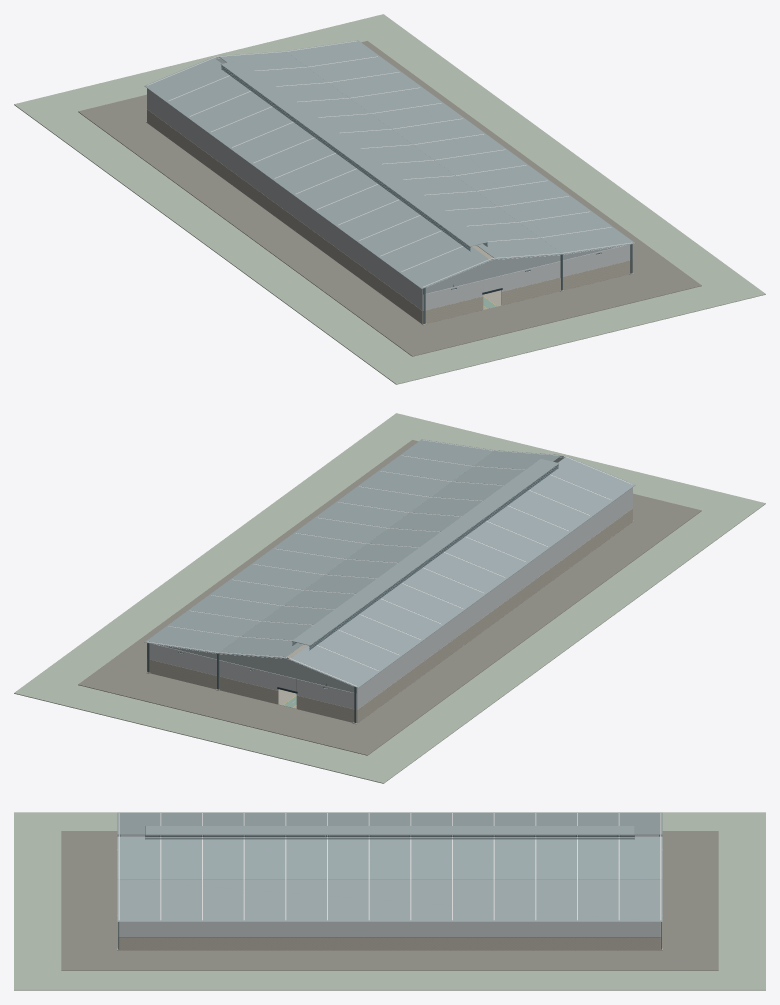
Rendered from factory-production.glb.
The picture shows the model from 3 angles, top to bottom: view 1: azimuth 30°, elevation 25°; view 2: azimuth 150°, elevation 25°; view 3: azimuth 270°, elevation 25°; orthographic projection.
Parts seen in each view (by area): view 1: M00_0000, M00_0001, M07_0271, M07_0273, M07_0272, M08_0004, M07_0297, M08_0003, M08_0016, M08_0296, M08_0015, M08_0014 (+1 smaller); view 2: M00_0000, M00_0001, M07_0271, M07_0273, M07_0272, M08_0004, M07_0297, M08_0003, M08_0010, M08_0295, M08_0009, M08_0008 (+1 smaller); view 3: M00_0000, M00_0001, M07_0272, M07_0273, M08_0006, M07_0271, M08_0005, M07_0297, M08_0004, M05_0308, M05_0304, M05_0305 (+3 smaller).
Boxes of the visible parts, bbox=[...] form: M00_0000: bbox=[14, 14, 765, 384]; M00_0001: bbox=[78, 41, 701, 356]; M07_0271: bbox=[144, 57, 490, 288]; M07_0273: bbox=[285, 40, 635, 254]; M07_0272: bbox=[218, 51, 562, 259]; M08_0004: bbox=[147, 88, 423, 310]; M07_0297: bbox=[221, 60, 487, 246]; M08_0003: bbox=[147, 109, 422, 323]; M08_0016: bbox=[501, 244, 630, 291]; M08_0296: bbox=[423, 246, 619, 293]; M08_0015: bbox=[501, 260, 630, 305]; M08_0014: bbox=[423, 280, 483, 310]; M00_0000: bbox=[14, 413, 765, 783]; M00_0001: bbox=[78, 440, 701, 755]; M07_0271: bbox=[289, 456, 635, 687]; M07_0273: bbox=[144, 439, 494, 653]; M07_0272: bbox=[217, 450, 561, 658]; M08_0004: bbox=[356, 487, 632, 709]; M07_0297: bbox=[292, 459, 558, 645]; M08_0003: bbox=[357, 508, 632, 722]; M08_0010: bbox=[149, 643, 278, 690]; M08_0295: bbox=[160, 645, 354, 692]; M08_0009: bbox=[149, 659, 278, 704]; M08_0008: bbox=[296, 679, 356, 709]; M00_0000: bbox=[14, 812, 765, 990]; M00_0001: bbox=[61, 831, 718, 970]; M07_0272: bbox=[117, 836, 662, 879]; M07_0273: bbox=[117, 880, 662, 921]; M08_0006: bbox=[119, 922, 660, 937]; M07_0271: bbox=[117, 812, 662, 834]; M08_0005: bbox=[119, 937, 660, 950]; M07_0297: bbox=[145, 826, 634, 834]; M08_0004: bbox=[120, 834, 659, 836]; M05_0308: bbox=[145, 835, 634, 836]; M05_0304: bbox=[145, 839, 634, 839]; M05_0305: bbox=[145, 838, 634, 838].
Size of the model in its own units: 120 by 17.23 by 215.
18 materials, 12 textured.
